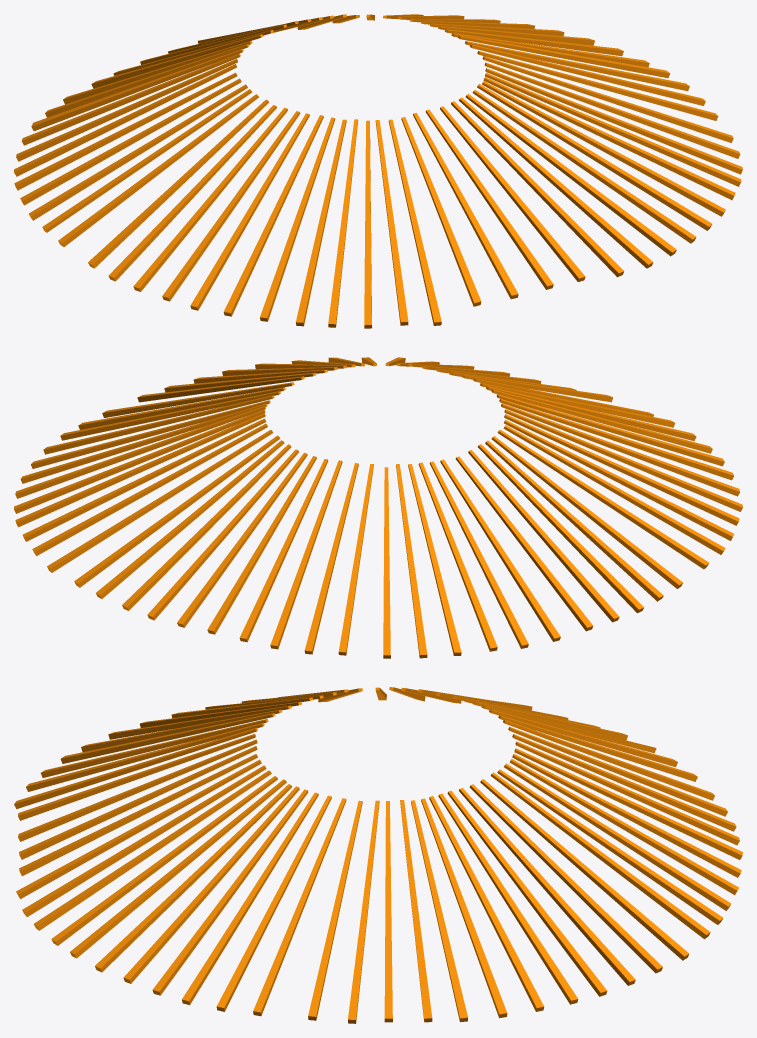
Rendered from uni.glb.
3 views of the same model, one above another, from view 1: azimuth 30°, elevation 25°; view 2: azimuth 150°, elevation 25°; view 3: azimuth 270°, elevation 25° (orthographic). The views are drawn at different scales.
Visible parts, largest first — view 1: pasted__pCube173, pasted__pCube172, pasted__pCube174, pasted__pCube140, pasted__pCube139, pasted__pCube186, pasted__pCube187, pasted__pCube190, pasted__pCube136, pasted__pCube153, pasted__pCube152, pasted__pCube188 (+37 smaller); view 2: pasted__pCube176, pasted__pCube175, pasted__pCube142, pasted__pCube169, pasted__pCube182, pasted__pCube151, pasted__pCube156, pasted__pCube152, pasted__pCube150, pasted__pCube170, pasted__pCube177, pasted__pCube153 (+38 smaller); view 3: pasted__pCube175, pasted__pCube174, pasted__pCube142, pasted__pCube173, pasted__pCube140, pasted__pCube169, pasted__pCube172, pasted__pCube139, pasted__pCube186, pasted__pCube176, pasted__pCube182, pasted__pCube170 (+37 smaller).
Part boxes in pixels (bbox=[...]): pasted__pCube173: bbox=[477, 83, 711, 230]; pasted__pCube172: bbox=[465, 94, 676, 256]; pasted__pCube174: bbox=[472, 89, 696, 243]; pasted__pCube140: bbox=[482, 81, 725, 216]; pasted__pCube139: bbox=[459, 97, 653, 268]; pasted__pCube186: bbox=[483, 77, 735, 200]; pasted__pCube187: bbox=[485, 73, 741, 186]; pasted__pCube190: bbox=[451, 101, 624, 277]; pasted__pCube136: bbox=[58, 94, 258, 246]; pasted__pCube153: bbox=[133, 107, 287, 291]; pasted__pCube152: bbox=[108, 105, 276, 281]; pasted__pCube188: bbox=[485, 68, 742, 174]; pasted__pCube176: bbox=[22, 418, 266, 541]; pasted__pCube175: bbox=[32, 423, 267, 555]; pasted__pCube142: bbox=[47, 430, 273, 572]; pasted__pCube169: bbox=[74, 435, 280, 587]; pasted__pCube182: bbox=[15, 413, 265, 527]; pasted__pCube151: bbox=[497, 429, 708, 569]; pasted__pCube156: bbox=[478, 444, 643, 613]; pasted__pCube152: bbox=[503, 425, 725, 554]; pasted__pCube150: bbox=[504, 414, 739, 525]; pasted__pCube170: bbox=[96, 440, 284, 598]; pasted__pCube177: bbox=[14, 409, 265, 513]; pasted__pCube153: bbox=[504, 420, 733, 540]; pasted__pCube175: bbox=[469, 784, 662, 973]; pasted__pCube174: bbox=[51, 776, 277, 945]; pasted__pCube142: bbox=[480, 779, 689, 960]; pasted__pCube173: bbox=[70, 779, 286, 958]; pasted__pCube140: bbox=[95, 784, 291, 972]; pasted__pCube169: bbox=[490, 772, 710, 939]; pasted__pCube172: bbox=[34, 770, 271, 930]; pasted__pCube139: bbox=[22, 765, 266, 916]; pasted__pCube186: bbox=[123, 786, 299, 983]; pasted__pCube176: bbox=[459, 788, 635, 985]; pasted__pCube182: bbox=[447, 790, 607, 996]; pasted__pCube170: bbox=[497, 769, 722, 924].
Size of the model in its own units: 25.99 by 4.3 by 24.6.
